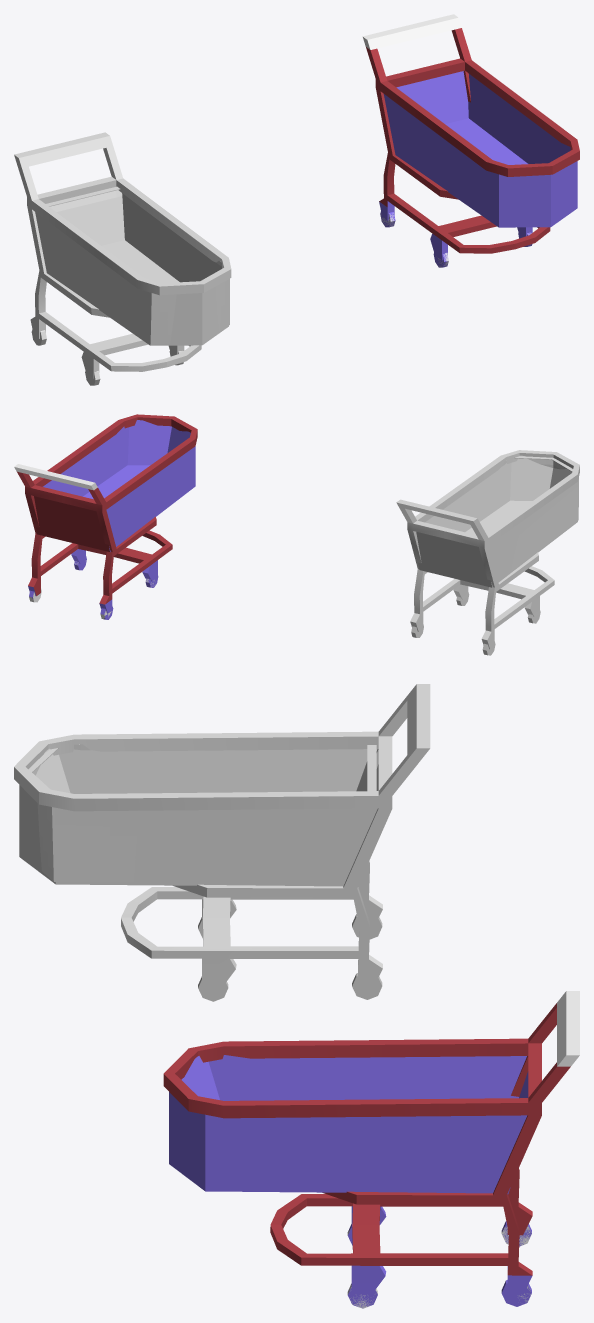
File: cart.fbx
3 views of the same model, one above another, from view 1: azimuth 30°, elevation 25°; view 2: azimuth 150°, elevation 25°; view 3: azimuth 270°, elevation 25° (orthographic). The views are drawn at different scales.
Visible parts, largest first — view 1: cart, cart.001, Cube.001; view 2: cart, cart.001, Cube.001, wheels.001; view 3: cart, cart.001, Cube.001.
Part boxes in pixels (x1,y1,x2,y2): cart: [362, 14, 579, 267]; cart.001: [14, 132, 231, 385]; Cube.001: [46, 186, 229, 344]; cart: [14, 414, 197, 619]; cart.001: [396, 450, 579, 649]; Cube.001: [502, 456, 578, 571]; wheels.001: [411, 592, 540, 655]; cart: [163, 991, 579, 1308]; cart.001: [14, 684, 430, 1001]; Cube.001: [28, 744, 376, 883].
Bounding box in the file's own units: 766 × 289 × 530.
